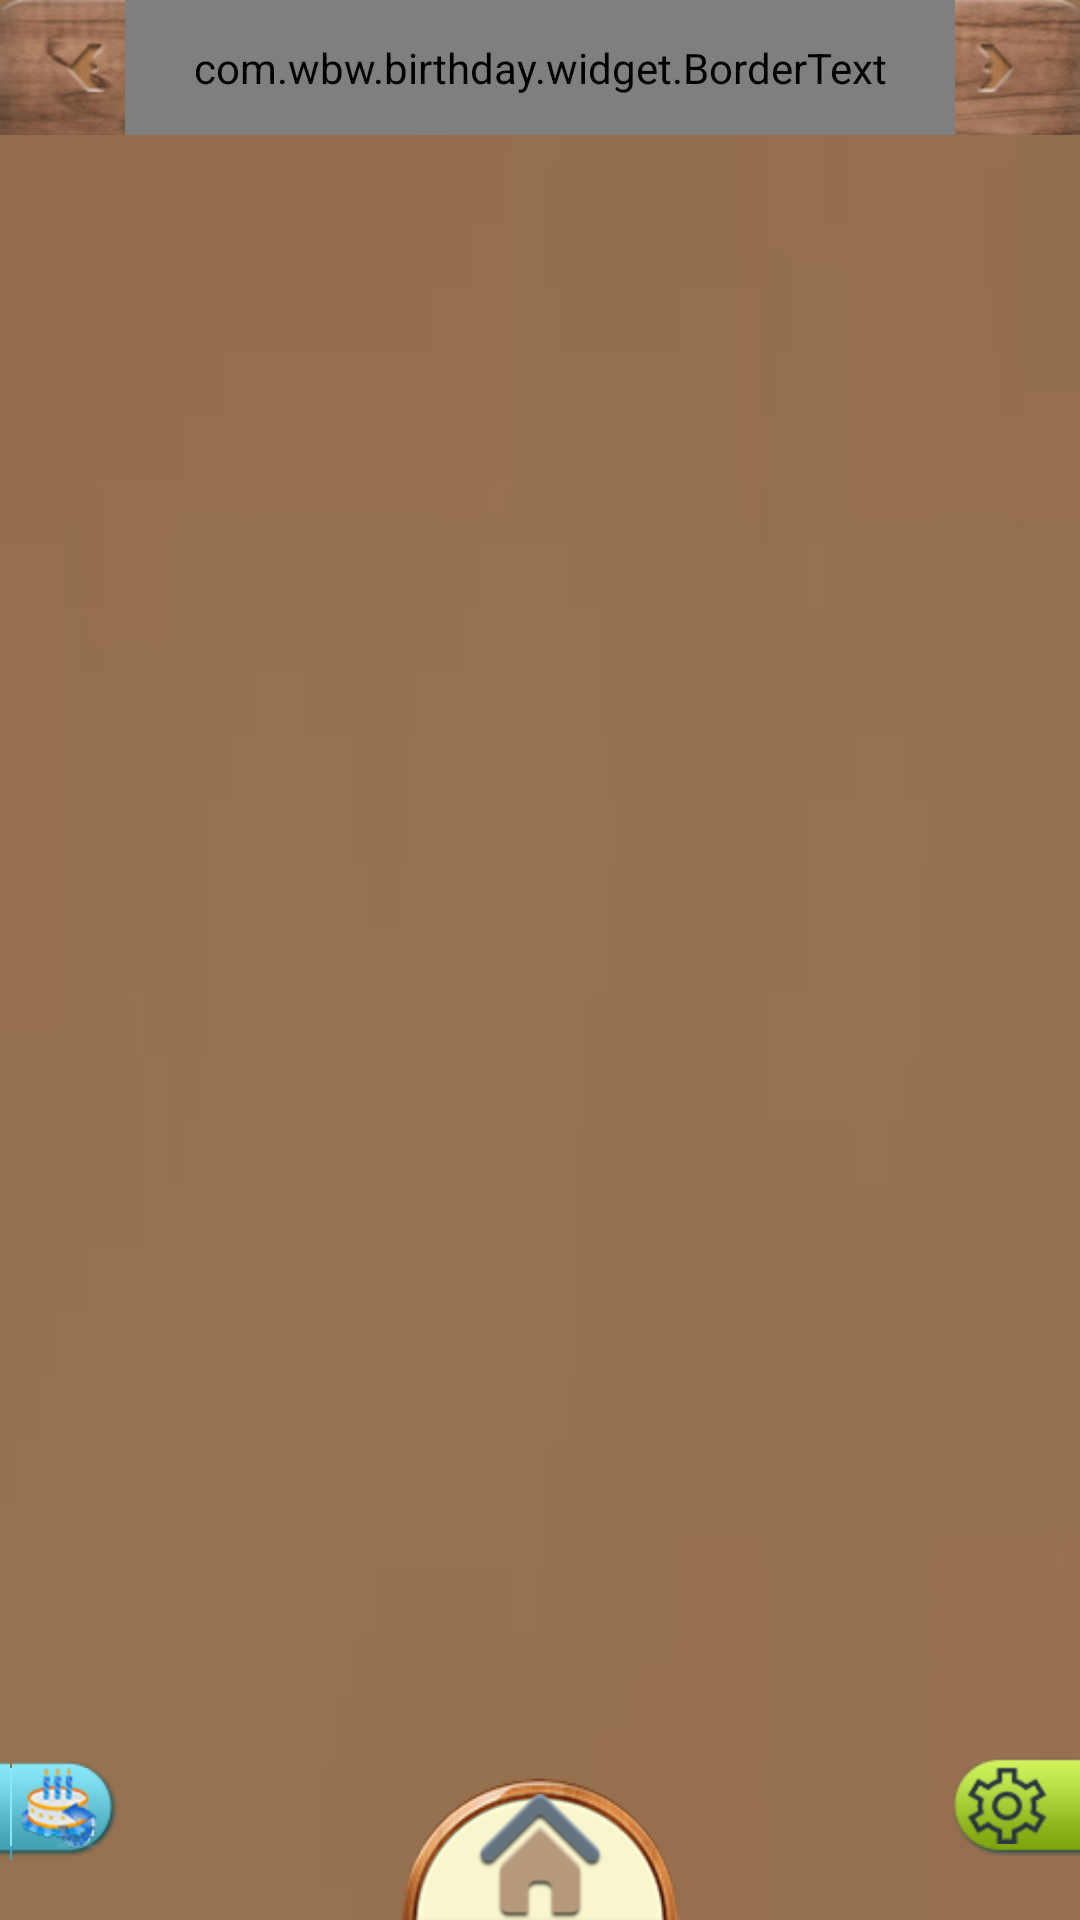

Icon click points for this 1080×1920 phone screenshot, format (x,y):
home: (540,1857)
